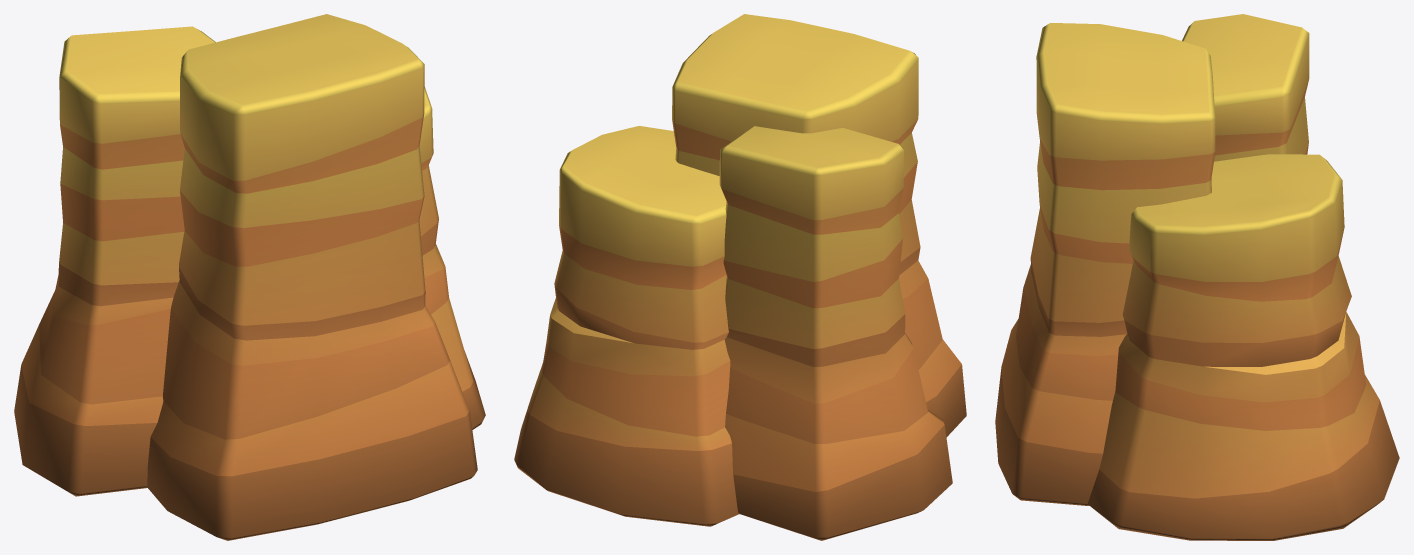
File: rock_formation_light_01.fbx
3 views of the same model, side by side, from view 1: azimuth 30°, elevation 25°; view 2: azimuth 150°, elevation 25°; view 3: azimuth 270°, elevation 25° (orthographic). The views are drawn at different scales.
Parts seen in each view (by area): view 1: rock_formation_light_01; view 2: rock_formation_light_01; view 3: rock_formation_light_01.
Part boxes in pixels (x1=…): rock_formation_light_01: x1=14, y1=14, x2=485, y2=540; rock_formation_light_01: x1=514, y1=14, x2=966, y2=540; rock_formation_light_01: x1=995, y1=14, x2=1399, y2=540.
Bounding box in the file's own units: 874 × 807 × 774.
